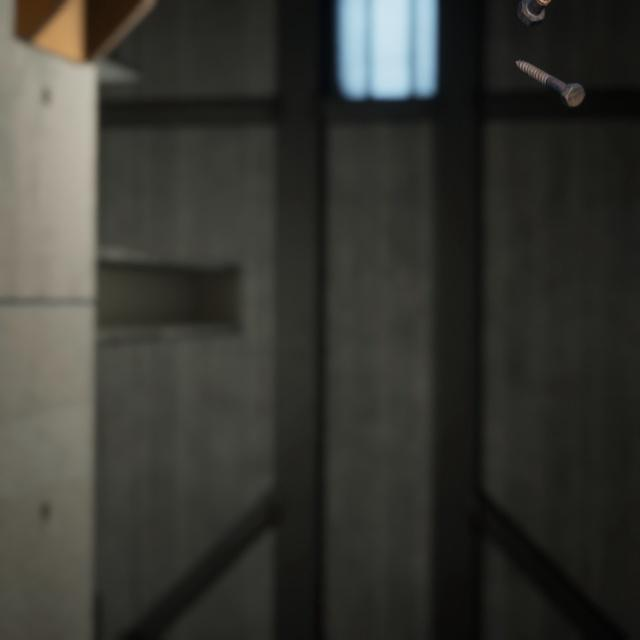bolt: (511, 45, 589, 100), (512, 0, 550, 24)
